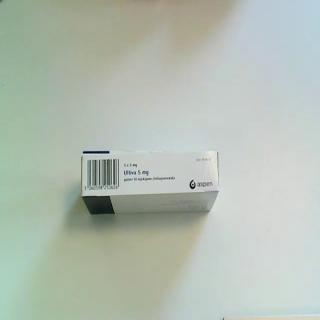ultiva5mg: (80, 148, 221, 218)
